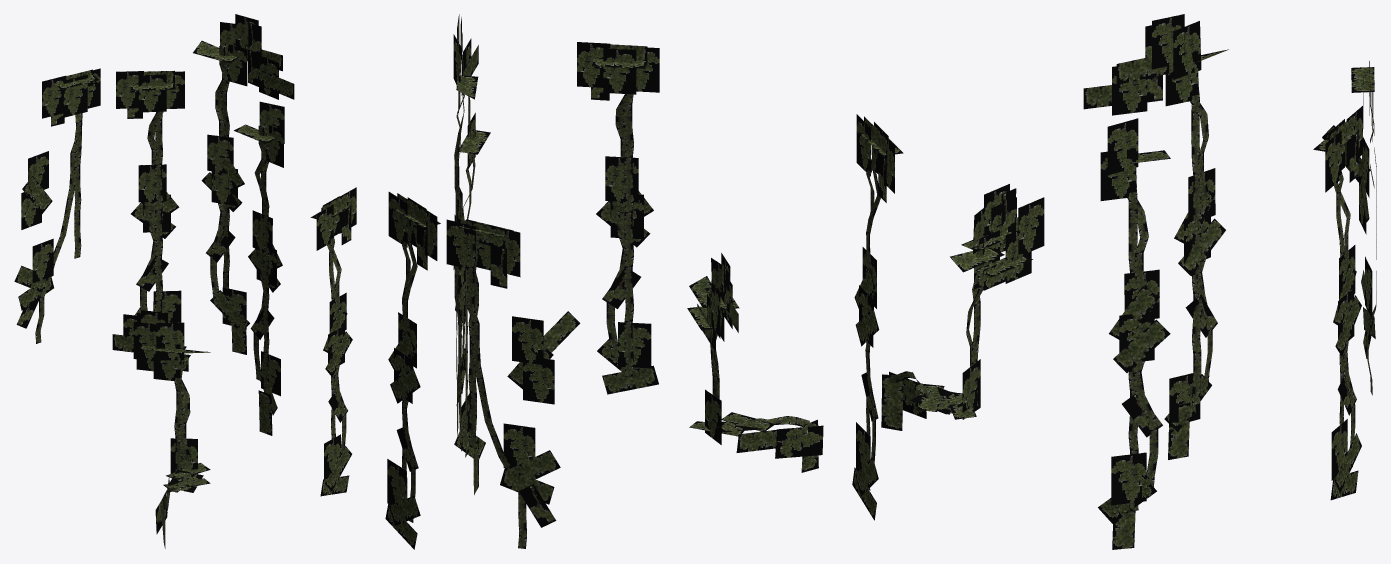
The model's file is eso_gu14_StoneRuins5_Vegetation-transformed.glb.
3 renders of one model, left to right at view 1: azimuth 30°, elevation 25°; view 2: azimuth 150°, elevation 25°; view 3: azimuth 270°, elevation 25°, orthographic. The views are drawn at different scales.
Parts seen in each view (by area): view 1: default; view 2: default; view 3: default.
Boxes of the visible parts, x1,y1,x2,y2 form: default: (14,14,356,548); default: (385,14,823,549); default: (852,14,1376,549).
Size of the model in its own units: 21.17 by 38.36 by 34.25.
Materials: 1 (1 with a texture image).
